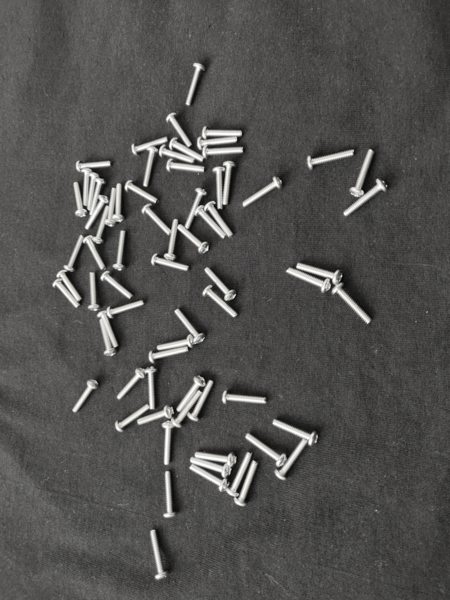longscrew: (331, 282, 375, 325), (343, 178, 389, 217), (246, 432, 288, 468), (275, 439, 310, 482), (272, 418, 320, 447), (242, 176, 284, 209), (349, 148, 376, 198), (171, 389, 204, 429), (226, 452, 254, 498), (285, 267, 332, 294), (203, 285, 240, 319), (175, 374, 207, 413), (187, 379, 216, 422), (203, 267, 238, 302), (234, 460, 260, 507), (204, 201, 235, 240), (307, 147, 357, 171), (189, 465, 230, 494), (195, 205, 228, 240), (296, 262, 344, 286), (174, 309, 206, 345), (184, 186, 209, 230), (115, 403, 151, 433), (177, 224, 211, 255), (141, 203, 172, 237), (101, 270, 135, 301), (71, 379, 101, 414), (117, 367, 147, 401), (150, 529, 169, 582), (184, 61, 206, 106), (96, 310, 121, 349), (169, 136, 205, 163), (166, 112, 193, 148), (190, 457, 233, 479), (52, 278, 81, 310), (83, 234, 108, 271), (84, 195, 110, 230), (125, 179, 161, 204), (63, 234, 86, 273), (56, 270, 83, 303), (137, 404, 175, 427), (131, 136, 169, 158), (221, 161, 239, 206), (159, 144, 197, 165), (151, 253, 190, 273), (88, 177, 108, 216), (157, 334, 196, 354), (107, 299, 145, 319), (99, 319, 119, 357), (142, 146, 160, 188), (221, 390, 268, 406), (148, 346, 189, 364), (195, 451, 238, 468), (92, 205, 110, 245), (112, 230, 129, 272), (164, 218, 180, 261), (145, 366, 160, 411), (160, 421, 175, 466), (212, 166, 227, 210), (86, 271, 102, 312), (202, 125, 245, 140), (202, 145, 245, 160), (166, 158, 206, 174), (72, 182, 89, 219), (198, 136, 239, 151), (86, 172, 101, 212), (163, 470, 175, 520), (104, 187, 118, 228), (75, 158, 113, 173), (112, 182, 125, 224), (80, 169, 94, 208)
